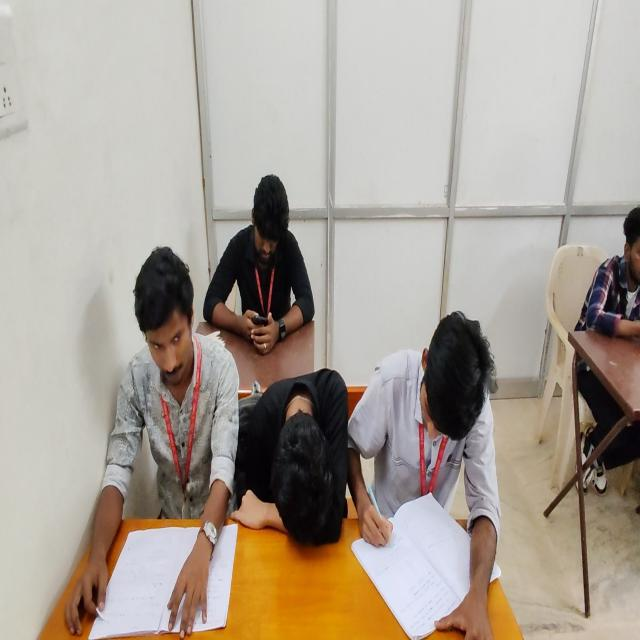reading: (66, 244, 243, 640)
sleeping: (235, 367, 343, 546)
using_mobile: (571, 202, 640, 501), (202, 173, 316, 352)
writing: (351, 314, 492, 640)
